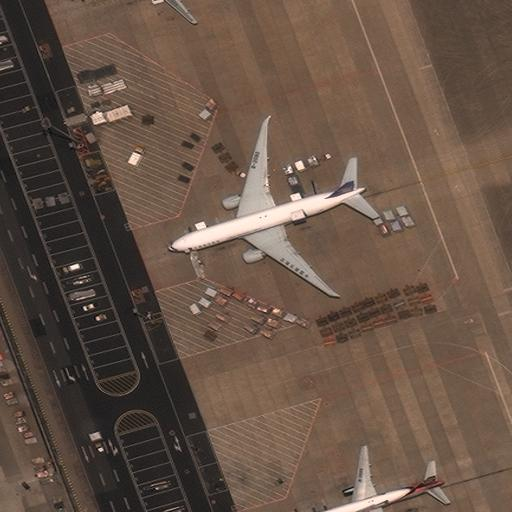Large Civil Transport: (167, 120, 366, 296), (306, 447, 444, 511)
Medium Civil Transport: (115, 0, 207, 24)
